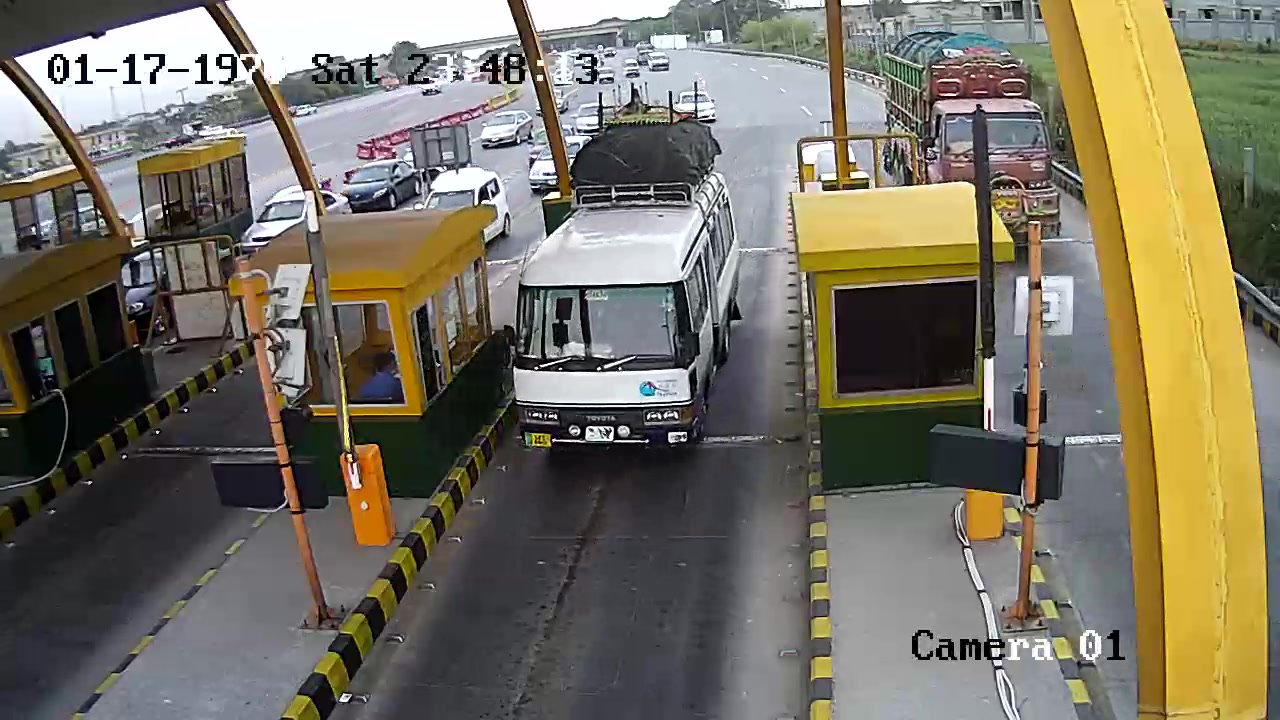F3: (508, 90, 746, 480)
